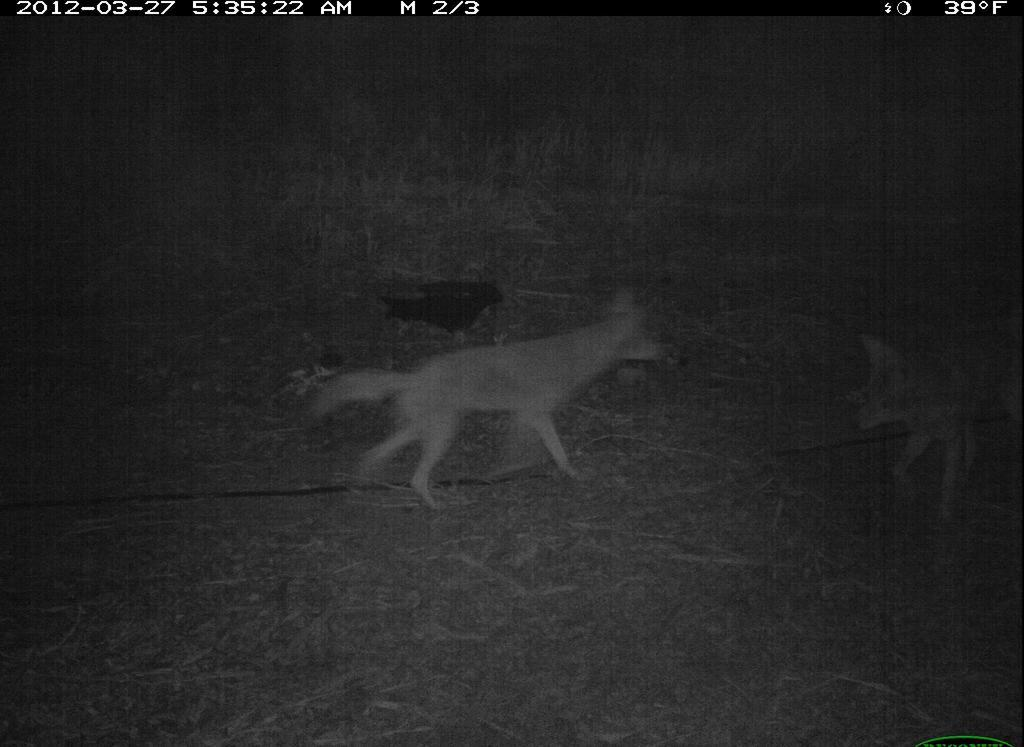coyote: (305, 283, 681, 515), (836, 314, 1024, 538)
